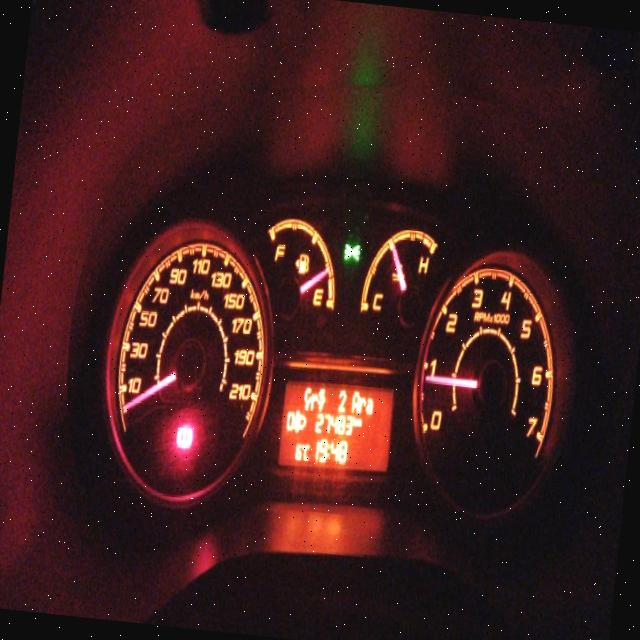odometer: (274, 370, 398, 474)
